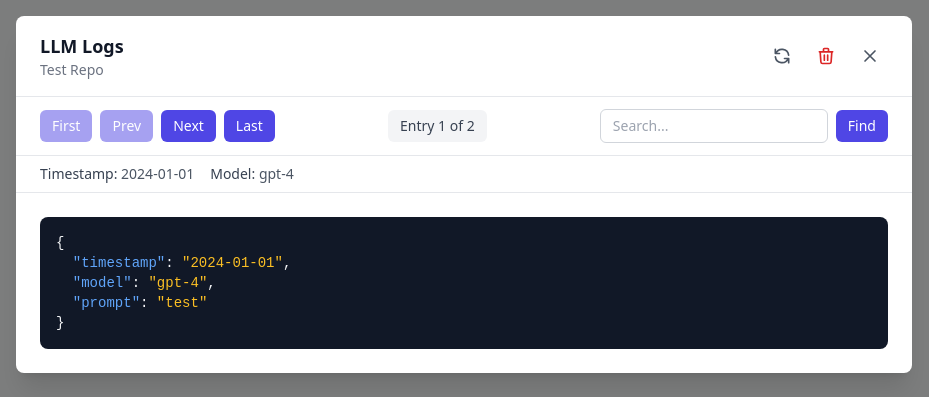
Test: LogViewerModal › shows delete confirmation when delete button is clicked
Expected: the text "Entry 1 of 2" is shown, [388,110,487,142]
What coordinates should you click on to do the following:
click the button named "delete"
I would click on:
 (826, 56)
Its box is [808,38,844,74].
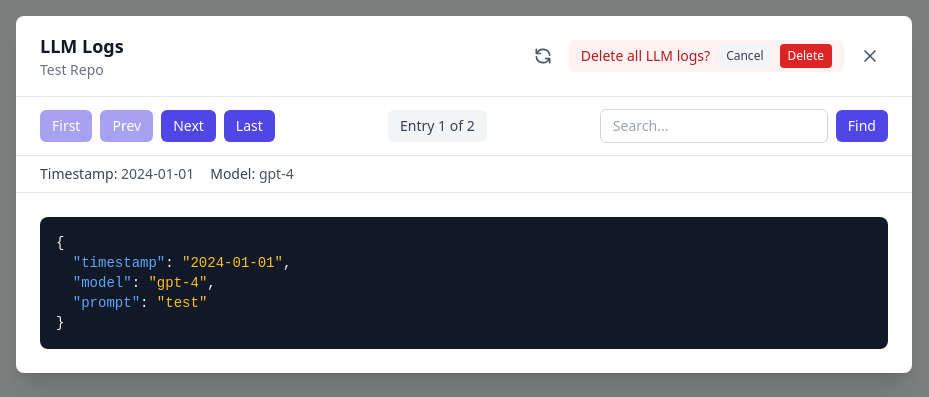
Expected: the text "Delete all LLM logs?" is shown, [581,46,710,66]
